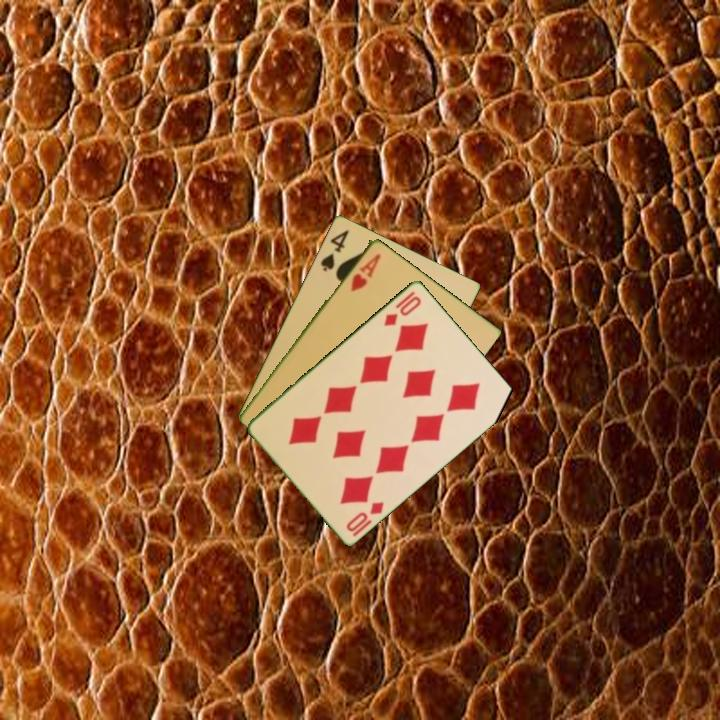10d: (380, 287, 424, 329), (342, 498, 387, 535)
4s: (317, 226, 352, 274)
Ah: (347, 249, 383, 294)
